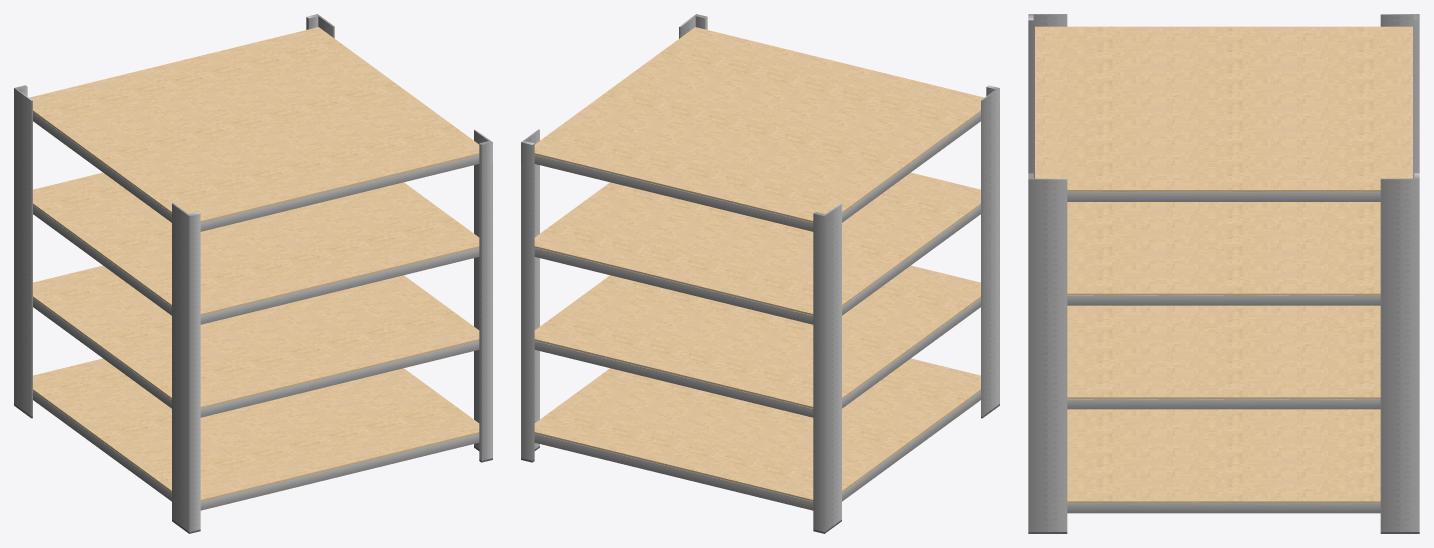
Rendered from sh-contrib-shelves-storage-steel.glb.
3 renders of one model, left to right at view 1: azimuth 30°, elevation 25°; view 2: azimuth 150°, elevation 25°; view 3: azimuth 270°, elevation 25°, orthographic. The views are drawn at different scales.
Parts seen in each view (by area): view 1: 3_3, 13_13, 5_5; view 2: 3_3, 13_13, 5_5; view 3: 3_3, 13_13, 5_5.
Boxes of the visible parts, x1,y1,x2,y2 form: 3_3: (29, 27, 479, 501); 13_13: (14, 14, 492, 531); 5_5: (33, 112, 479, 510); 3_3: (534, 27, 984, 501); 13_13: (521, 14, 999, 531); 5_5: (534, 112, 980, 510); 3_3: (1035, 26, 1412, 503); 13_13: (1028, 14, 1419, 531); 5_5: (1067, 192, 1380, 513).
Size of the model in its own units: 1 by 1 by 1.
4 materials, 3 textured.
